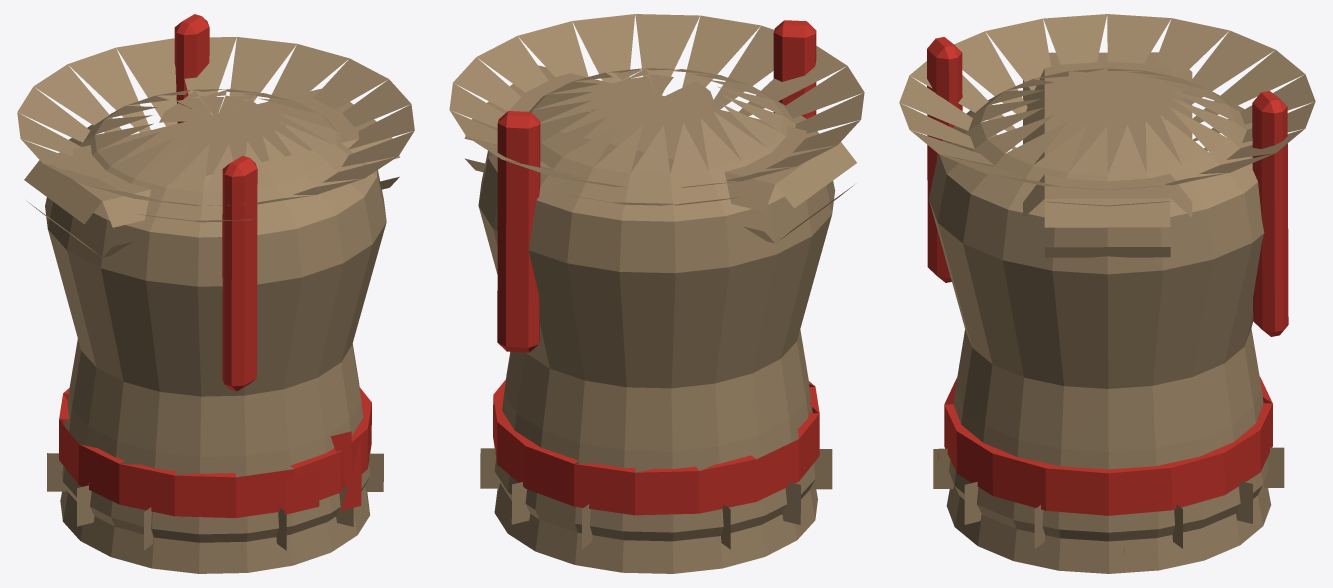
File: goblin-Torso.glb
3 views of the same model, side by side, from view 1: azimuth 30°, elevation 25°; view 2: azimuth 150°, elevation 25°; view 3: azimuth 270°, elevation 25° (orthographic). The views are drawn at different scales.
Visible parts, largest first — view 1: Torso_torso.002, Torso_belt.001, Torso_strap.001; view 2: Torso_torso.002, Torso_belt.001, Torso_strap.001; view 3: Torso_torso.002, Torso_belt.001, Torso_strap.001.
Part boxes in pixels (bbox=[...]): Torso_torso.002: bbox=[17, 37, 414, 573]; Torso_belt.001: bbox=[59, 387, 371, 517]; Torso_strap.001: bbox=[174, 14, 257, 391]; Torso_torso.002: bbox=[449, 14, 864, 573]; Torso_belt.001: bbox=[493, 379, 819, 515]; Torso_strap.001: bbox=[497, 20, 816, 352]; Torso_torso.002: bbox=[899, 14, 1315, 573]; Torso_belt.001: bbox=[938, 377, 1272, 515]; Torso_strap.001: bbox=[927, 37, 1288, 336].
Bounding box in the file's own units: 0.377 × 0.4302 × 0.377.
